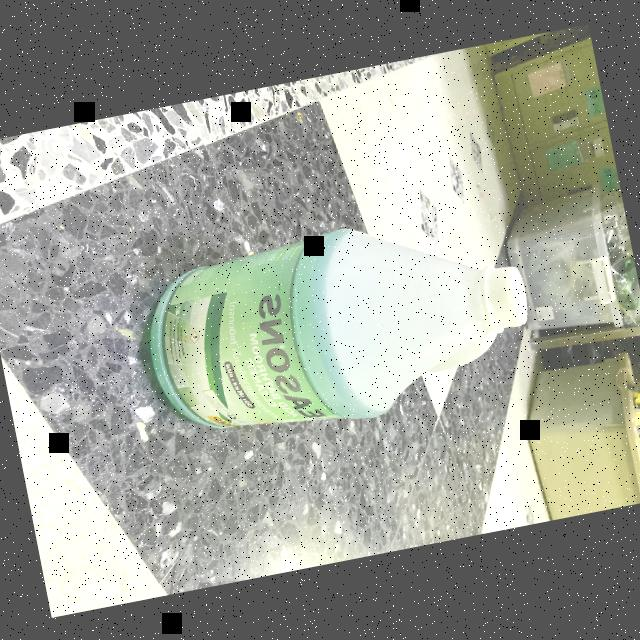chemical_plastic_gallon: (130, 196, 546, 453)
